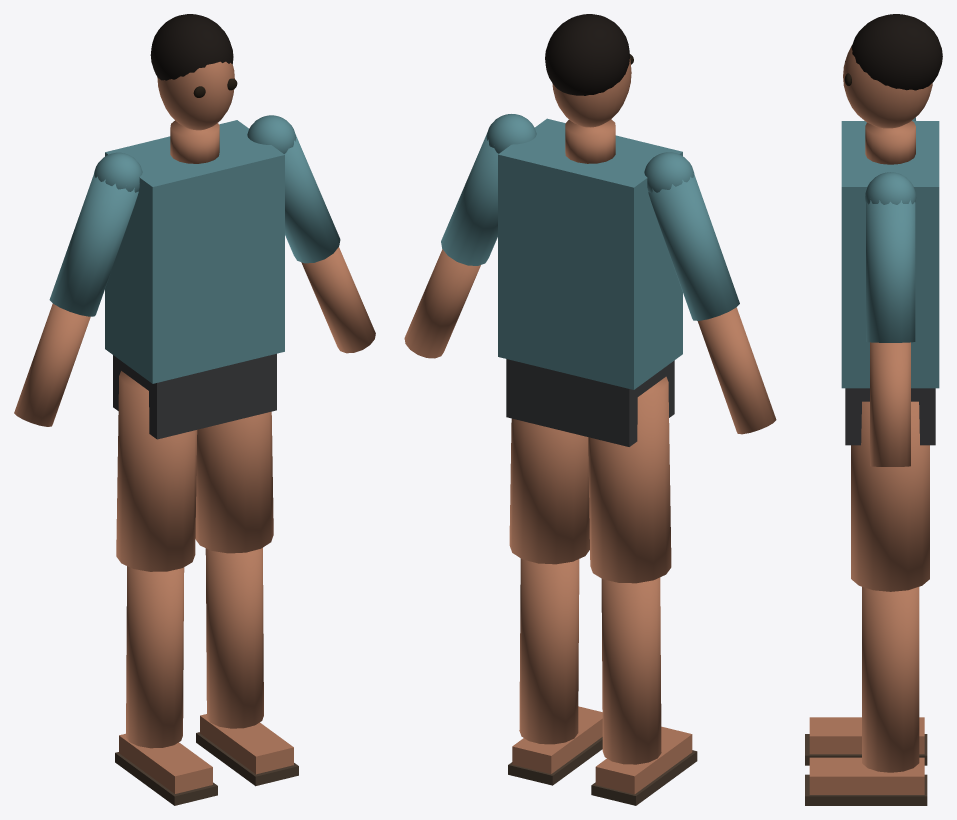
File: char-nara.glb
3 views of the same model, side by side, from view 1: azimuth 30°, elevation 25°; view 2: azimuth 150°, elevation 25°; view 3: azimuth 270°, elevation 25° (orthographic). The views are drawn at different scales.
Parts seen in each view (by area): view 1: CHR_nara_body, CHR_nara_thigh_R, CHR_nara_shin_R, CHR_nara_shin_L, CHR_nara_thigh_L, CHR_nara_hips, CHR_nara_upperarm_R, CHR_nara_forearm_R, CHR_nara_upperarm_L, CHR_nara_forearm_L, CHR_nara_hair, CHR_nara_head (+7 smaller); view 2: CHR_nara_body, CHR_nara_thigh_R, CHR_nara_shin_R, CHR_nara_shin_L, CHR_nara_thigh_L, CHR_nara_hips, CHR_nara_upperarm_R, CHR_nara_hair, CHR_nara_forearm_R, CHR_nara_upperarm_L, CHR_nara_forearm_L, CHR_nara_foot_R (+7 smaller); view 3: CHR_nara_body, CHR_nara_thigh_L, CHR_nara_shin_L, CHR_nara_upperarm_L, CHR_nara_hair, CHR_nara_forearm_L, CHR_nara_foot_L, CHR_nara_head, CHR_nara_foot_R, CHR_nara_hips, CHR_nara_neck, CHR_nara_sandal_L (+2 smaller).
Boxes of the visible parts, <box> form: CHR_nara_body: <box>105,120,284,383</box>; CHR_nara_thigh_R: <box>116,371,197,571</box>; CHR_nara_shin_R: <box>126,566,184,748</box>; CHR_nara_shin_L: <box>205,548,263,728</box>; CHR_nara_thigh_L: <box>195,411,273,553</box>; CHR_nara_hips: <box>113,353,276,439</box>; CHR_nara_upperarm_R: <box>49,171,138,316</box>; CHR_nara_forearm_R: <box>14,303,90,426</box>; CHR_nara_upperarm_L: <box>284,134,340,263</box>; CHR_nara_forearm_L: <box>301,247,375,353</box>; CHR_nara_hair: <box>150,14,233,80</box>; CHR_nara_head: <box>157,61,234,130</box>; CHR_nara_body: <box>498,118,682,389</box>; CHR_nara_thigh_R: <box>588,376,671,583</box>; CHR_nara_shin_R: <box>601,577,661,764</box>; CHR_nara_shin_L: <box>519,558,579,744</box>; CHR_nara_thigh_L: <box>509,418,589,564</box>; CHR_nara_hips: <box>506,359,674,446</box>; CHR_nara_upperarm_R: <box>648,173,739,320</box>; CHR_nara_hair: <box>545,14,629,95</box>; CHR_nara_forearm_R: <box>697,307,776,434</box>; CHR_nara_upperarm_L: <box>441,134,498,265</box>; CHR_nara_forearm_L: <box>404,249,480,358</box>; CHR_nara_foot_R: <box>595,726,692,794</box>; CHR_nara_body: <box>841,121,939,388</box>; CHR_nara_thigh_L: <box>851,401,929,591</box>; CHR_nara_shin_L: <box>862,587,919,772</box>; CHR_nara_upperarm_L: <box>866,200,915,342</box>; CHR_nara_hair: <box>851,14,942,90</box>; CHR_nara_forearm_L: <box>870,342,910,466</box>; CHR_nara_foot_L: <box>809,757,924,794</box>; CHR_nara_head: <box>843,45,932,128</box>; CHR_nara_foot_R: <box>809,717,924,754</box>; CHR_nara_hips: <box>845,388,935,445</box>; CHR_nara_neck: <box>865,121,915,164</box>; CHR_nara_sandal_L: <box>805,774,927,805</box>.
Bounding box in the file's own units: 0.8618 × 1.71 × 0.282.
